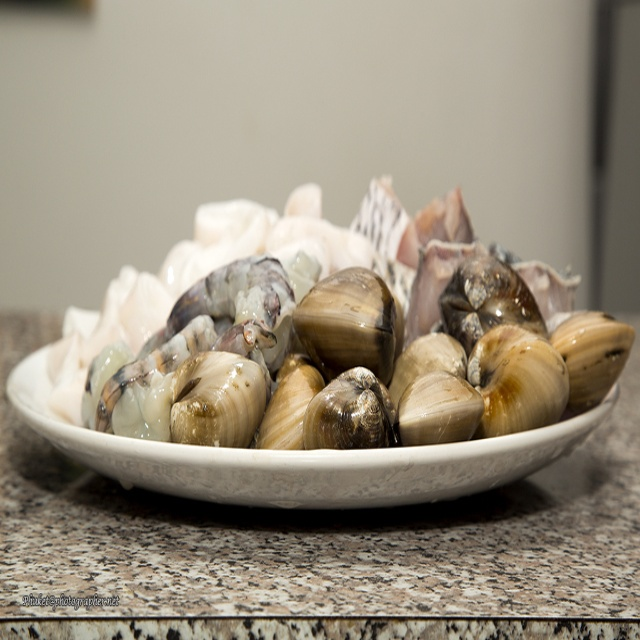Snail: (7, 174, 636, 506)
